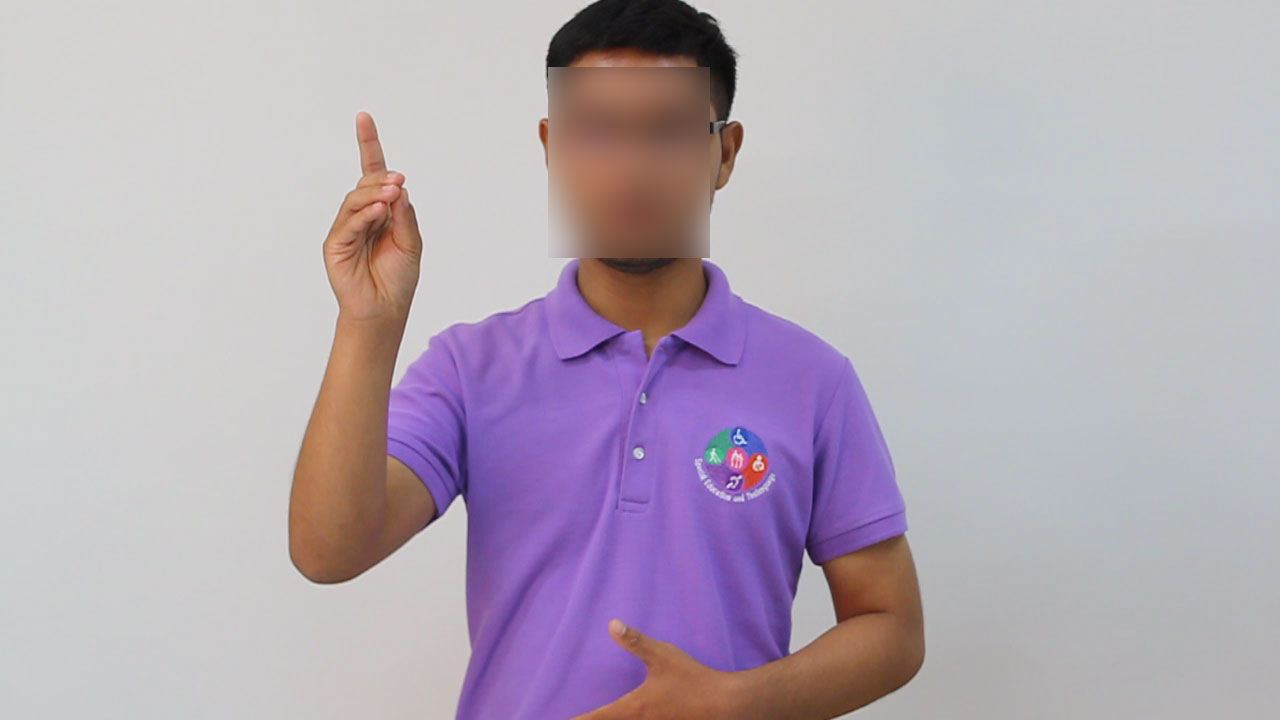dor: (307, 104, 436, 347)
